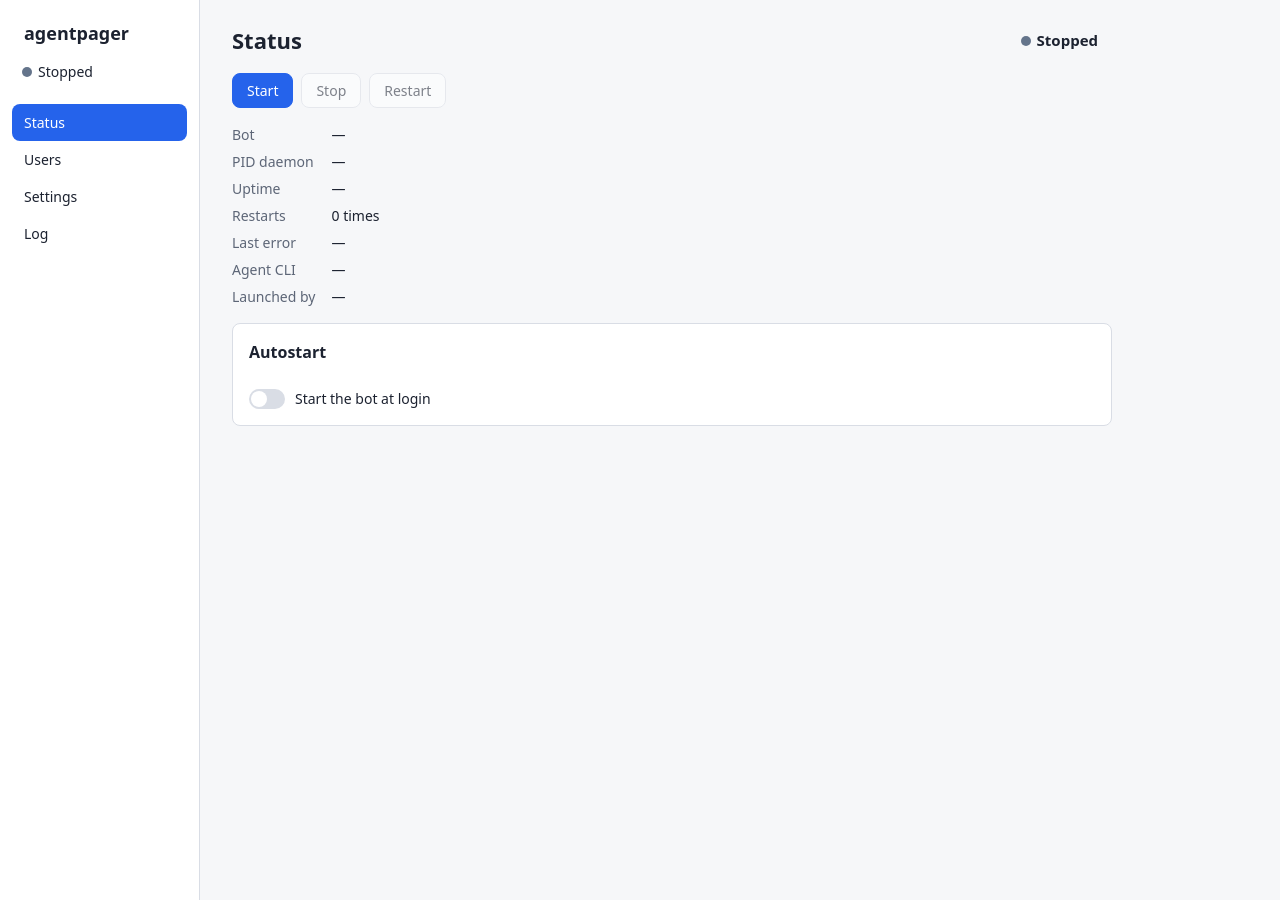
App › runs the wizard again from Settings over an unreadable config
The image size is (1280, 900).
Click the button "Settings": click(100, 196) [12,178,187,215]
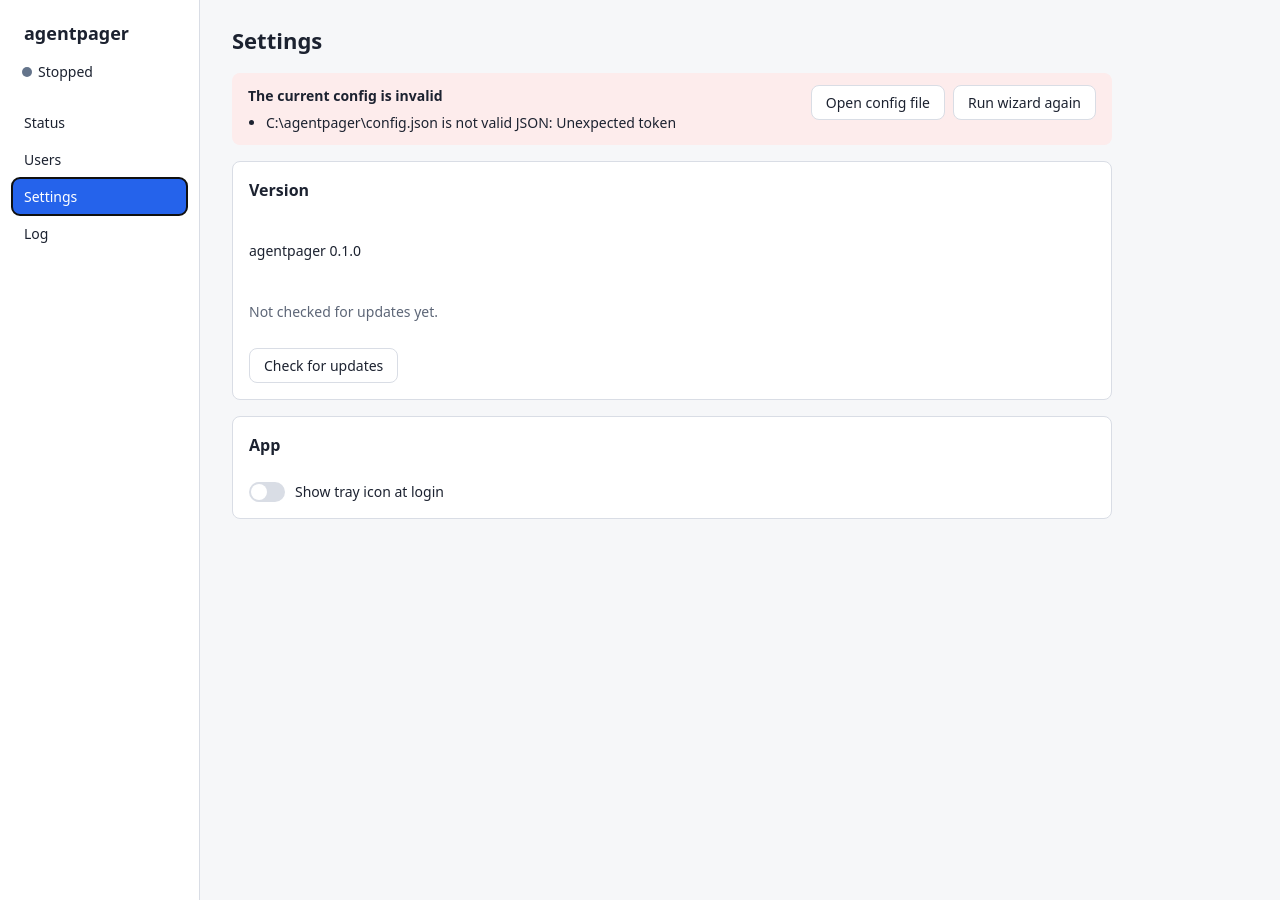
Click the button "Run wizard again": click(1024, 102) [953,85,1096,120]
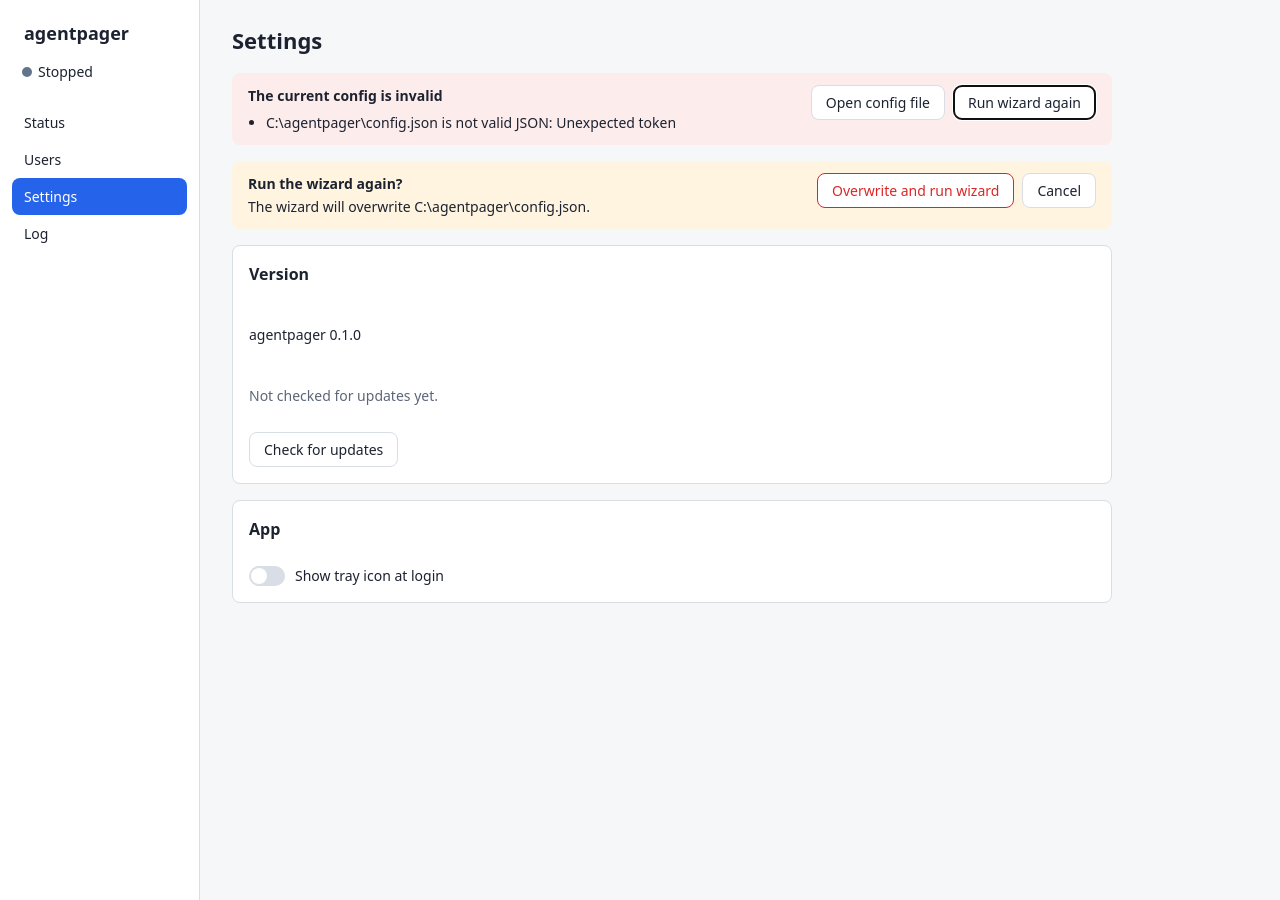
Click the button "Overwrite and run wizard": click(916, 190) [817,173,1014,208]
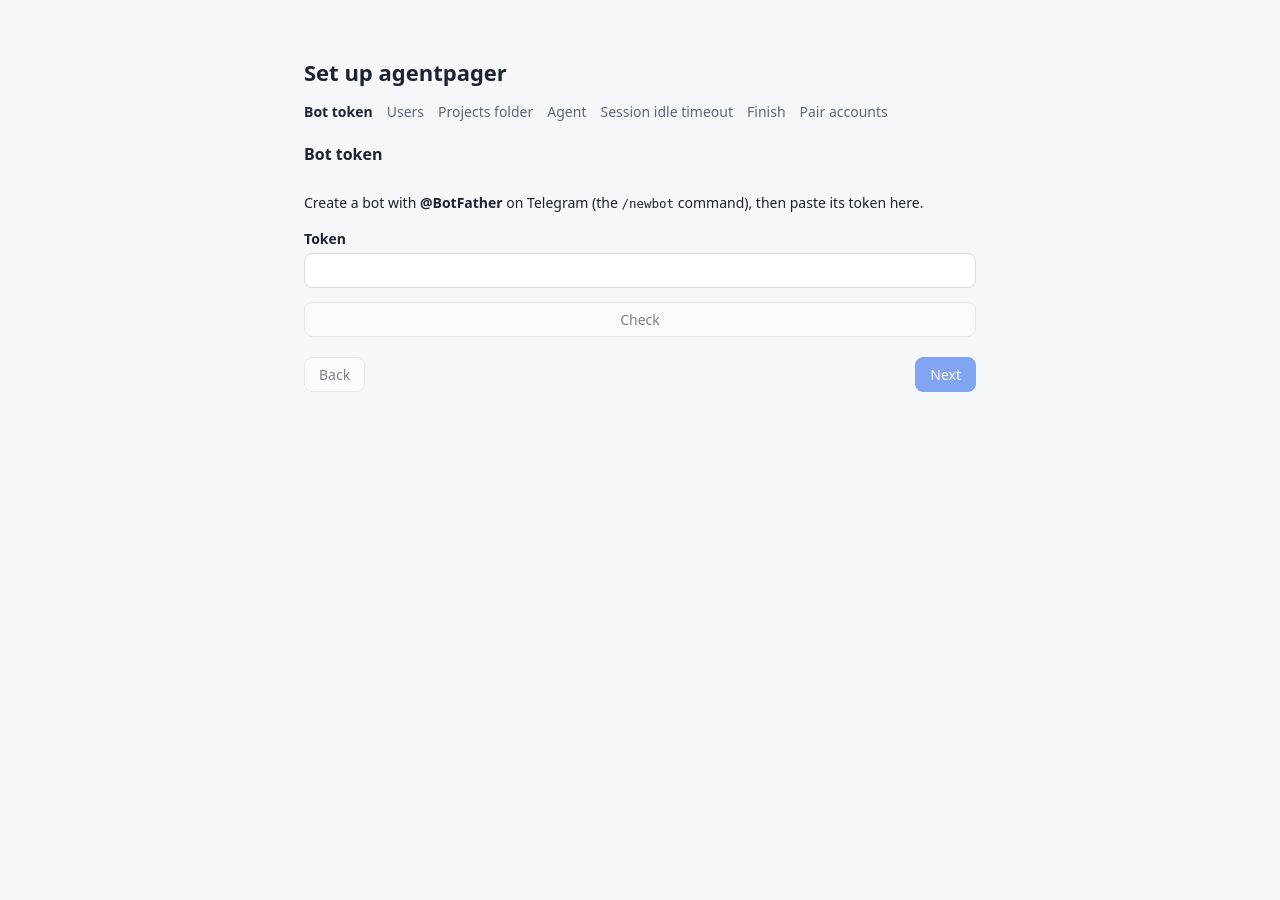
Now the heading "Set up agentpager" is shown, box [304,57,507,87]
